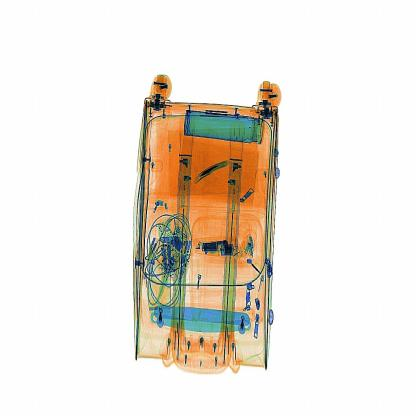wrench: (188, 148, 237, 192)
